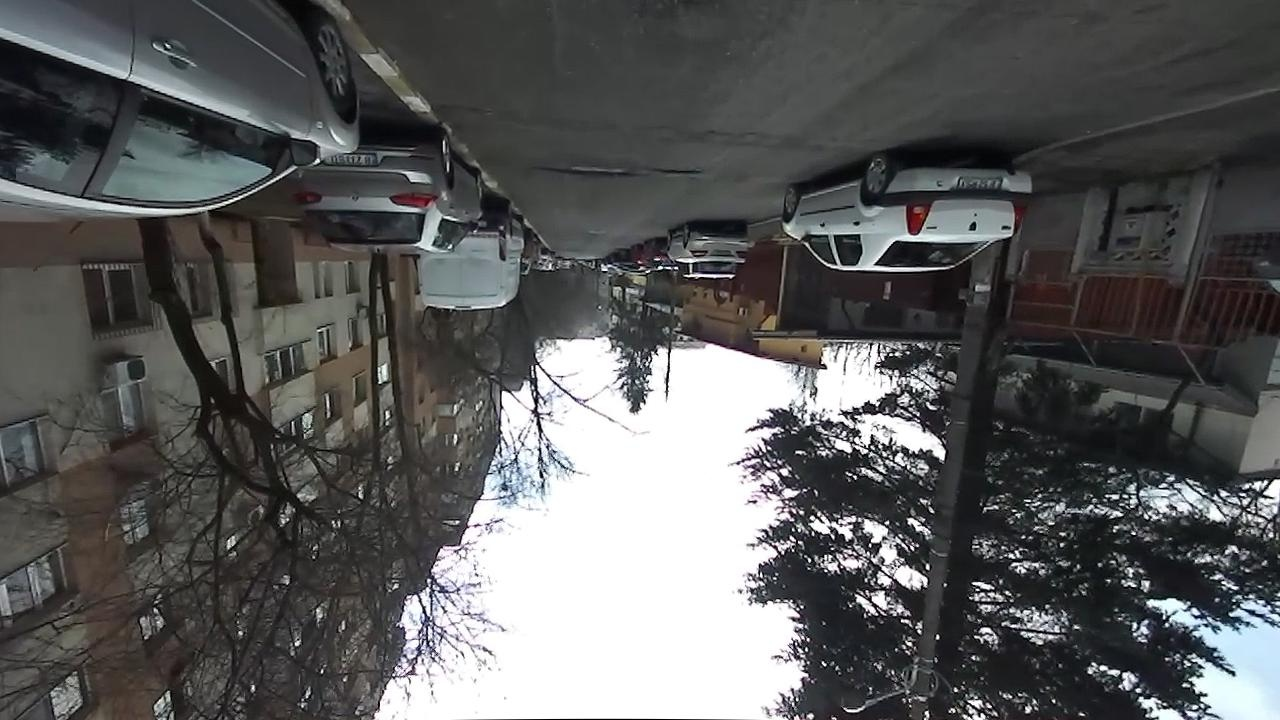pothole: (538, 162, 634, 178), (652, 165, 702, 177)
